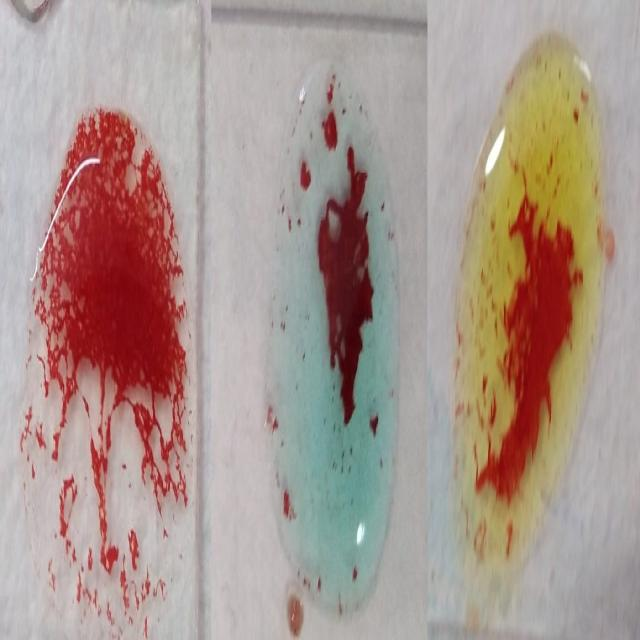A: (263, 57, 397, 608)
B: (456, 22, 602, 588)
D: (29, 104, 191, 640)
